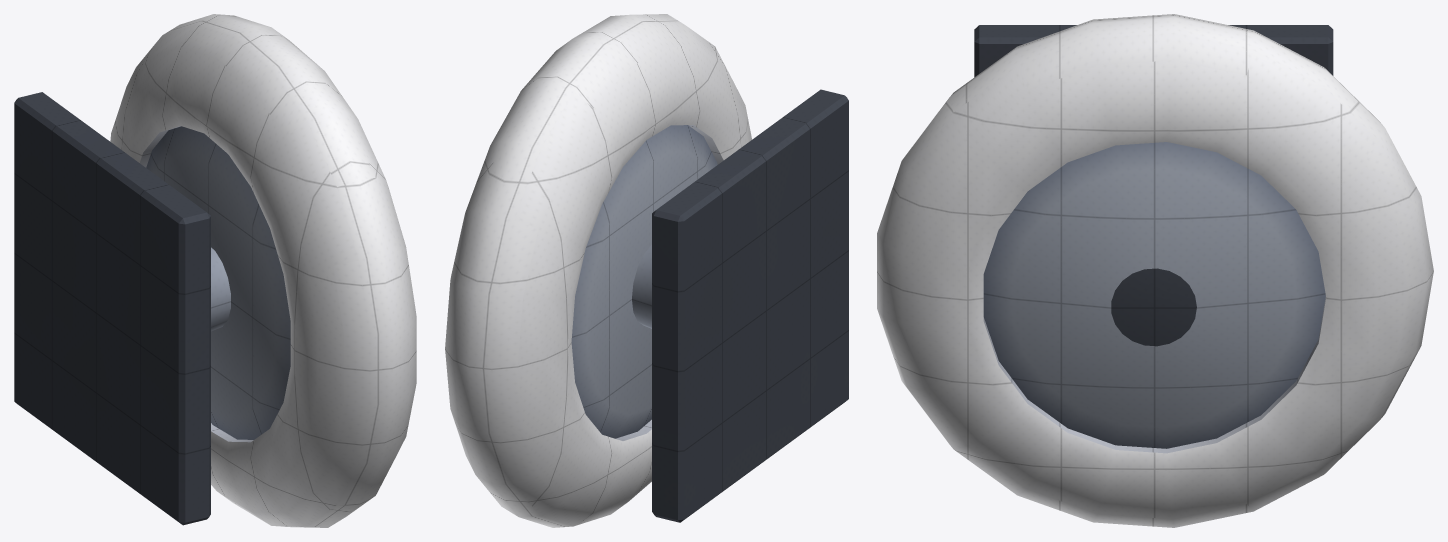
File: R4M_WheelM_Side_Offroad_LOD1.glb
3 renders of one model, left to right at view 1: azimuth 30°, elevation 25°; view 2: azimuth 150°, elevation 25°; view 3: azimuth 270°, elevation 25°, orthographic. The views are drawn at different scales.
Parts seen in each view (by area): view 1: R4M_WheelM_Side_Offroad_LOD1; view 2: R4M_WheelM_Side_Offroad_LOD1; view 3: R4M_WheelM_Side_Offroad_LOD1.
Part boxes in pixels (left/top/right/bottom): R4M_WheelM_Side_Offroad_LOD1: left=14, top=14, right=416, bottom=527; R4M_WheelM_Side_Offroad_LOD1: left=445, top=14, right=848, bottom=527; R4M_WheelM_Side_Offroad_LOD1: left=877, top=14, right=1433, bottom=527.
Size of the model in its own units: 0.402 by 0.7778 by 0.7756.
Materials: 4 (3 with a texture image).
